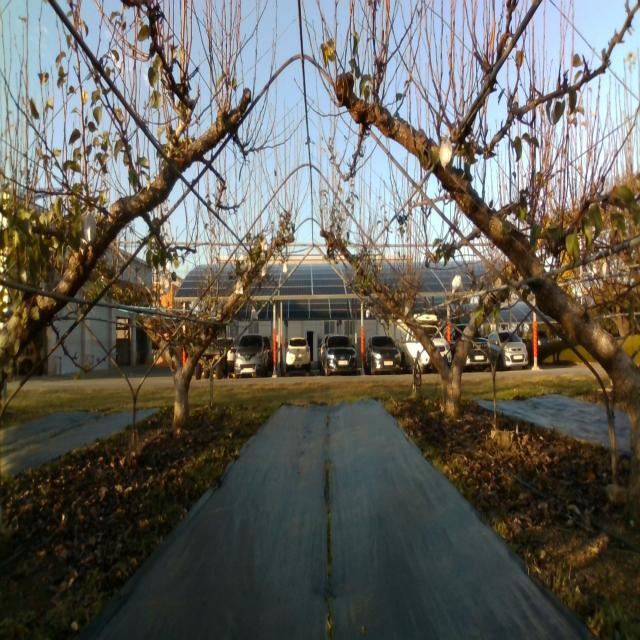pearbags: (439, 137, 454, 173), (82, 211, 96, 245), (452, 273, 462, 296), (161, 274, 171, 293)
